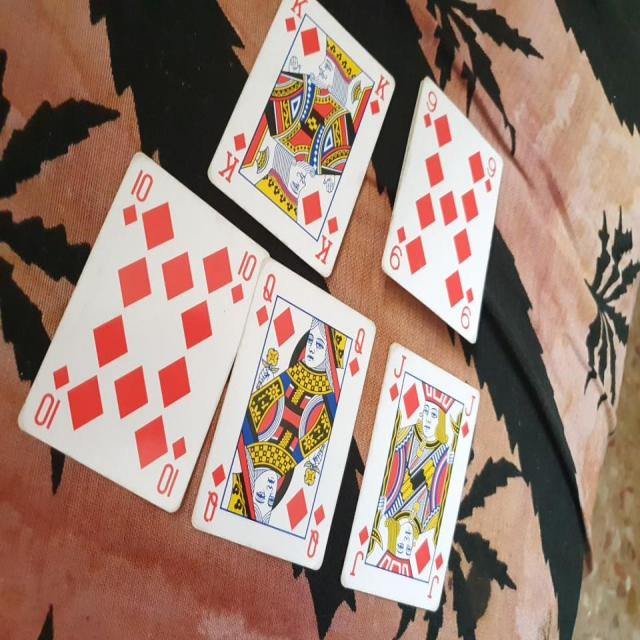10 Diamonds: (13, 148, 268, 512)
9 Diamonds: (378, 71, 503, 344)
J Diamonds: (336, 341, 481, 614)
K Diamonds: (207, 1, 399, 280)
Q Diamonds: (189, 256, 377, 573)
